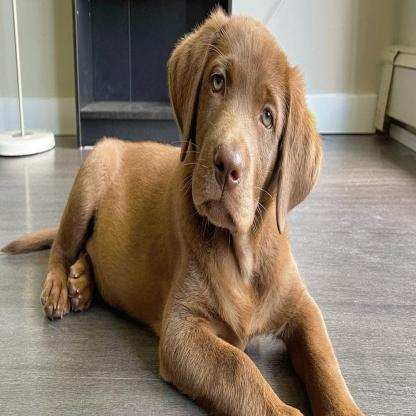dog: (0, 13, 365, 416)
